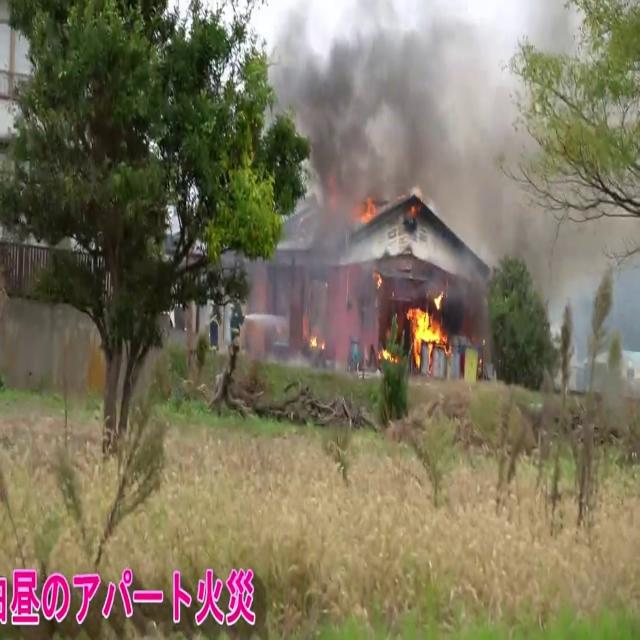Fire: (402, 288, 450, 362)
Smoke: (262, 0, 520, 253)
